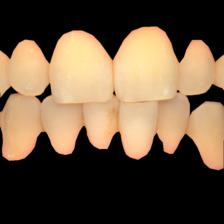cavity: (112, 110, 124, 130), (36, 114, 46, 130), (152, 118, 161, 134), (185, 118, 193, 133), (81, 111, 87, 127)
tooth: (115, 27, 179, 102), (51, 28, 114, 102), (43, 97, 88, 156), (119, 98, 158, 161), (3, 93, 37, 162), (192, 102, 224, 174), (9, 37, 48, 96), (180, 31, 212, 97), (82, 105, 121, 151), (161, 100, 190, 154)
